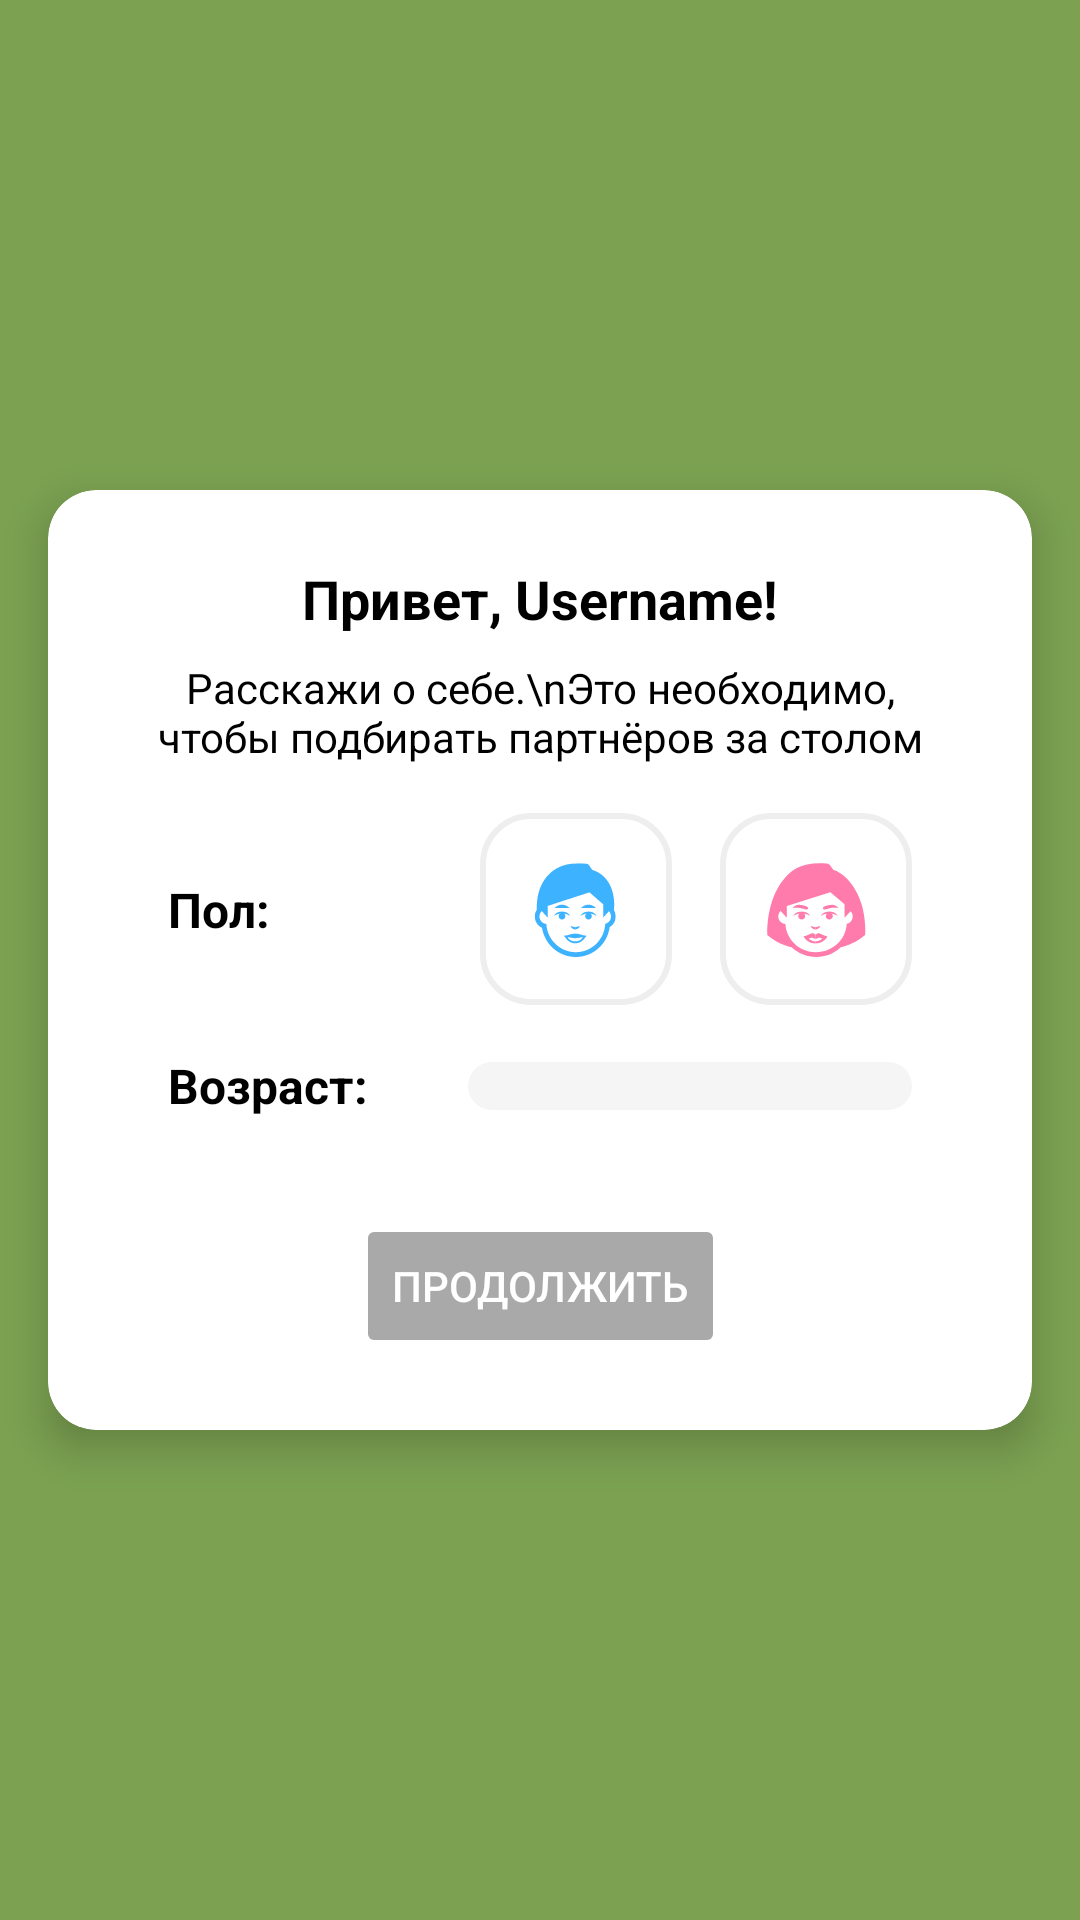

Where icons sit on this 1080*1920 app screen, as bbox=(x1, y1, x2, y2):
femaleicon: bbox=(767, 863, 866, 957)
maleicon: bbox=(535, 863, 616, 957)
